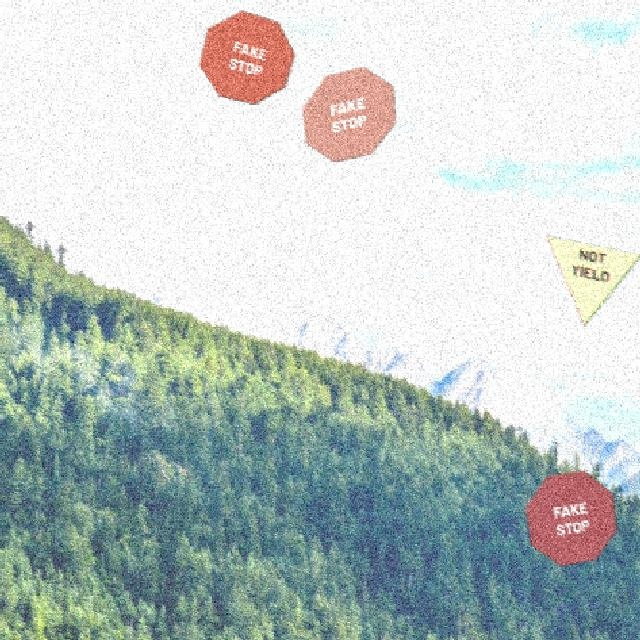FAKE_STOP: (299, 65, 394, 162), (196, 9, 293, 104), (522, 469, 615, 566)
NOT_YIELD: (543, 234, 640, 326)
